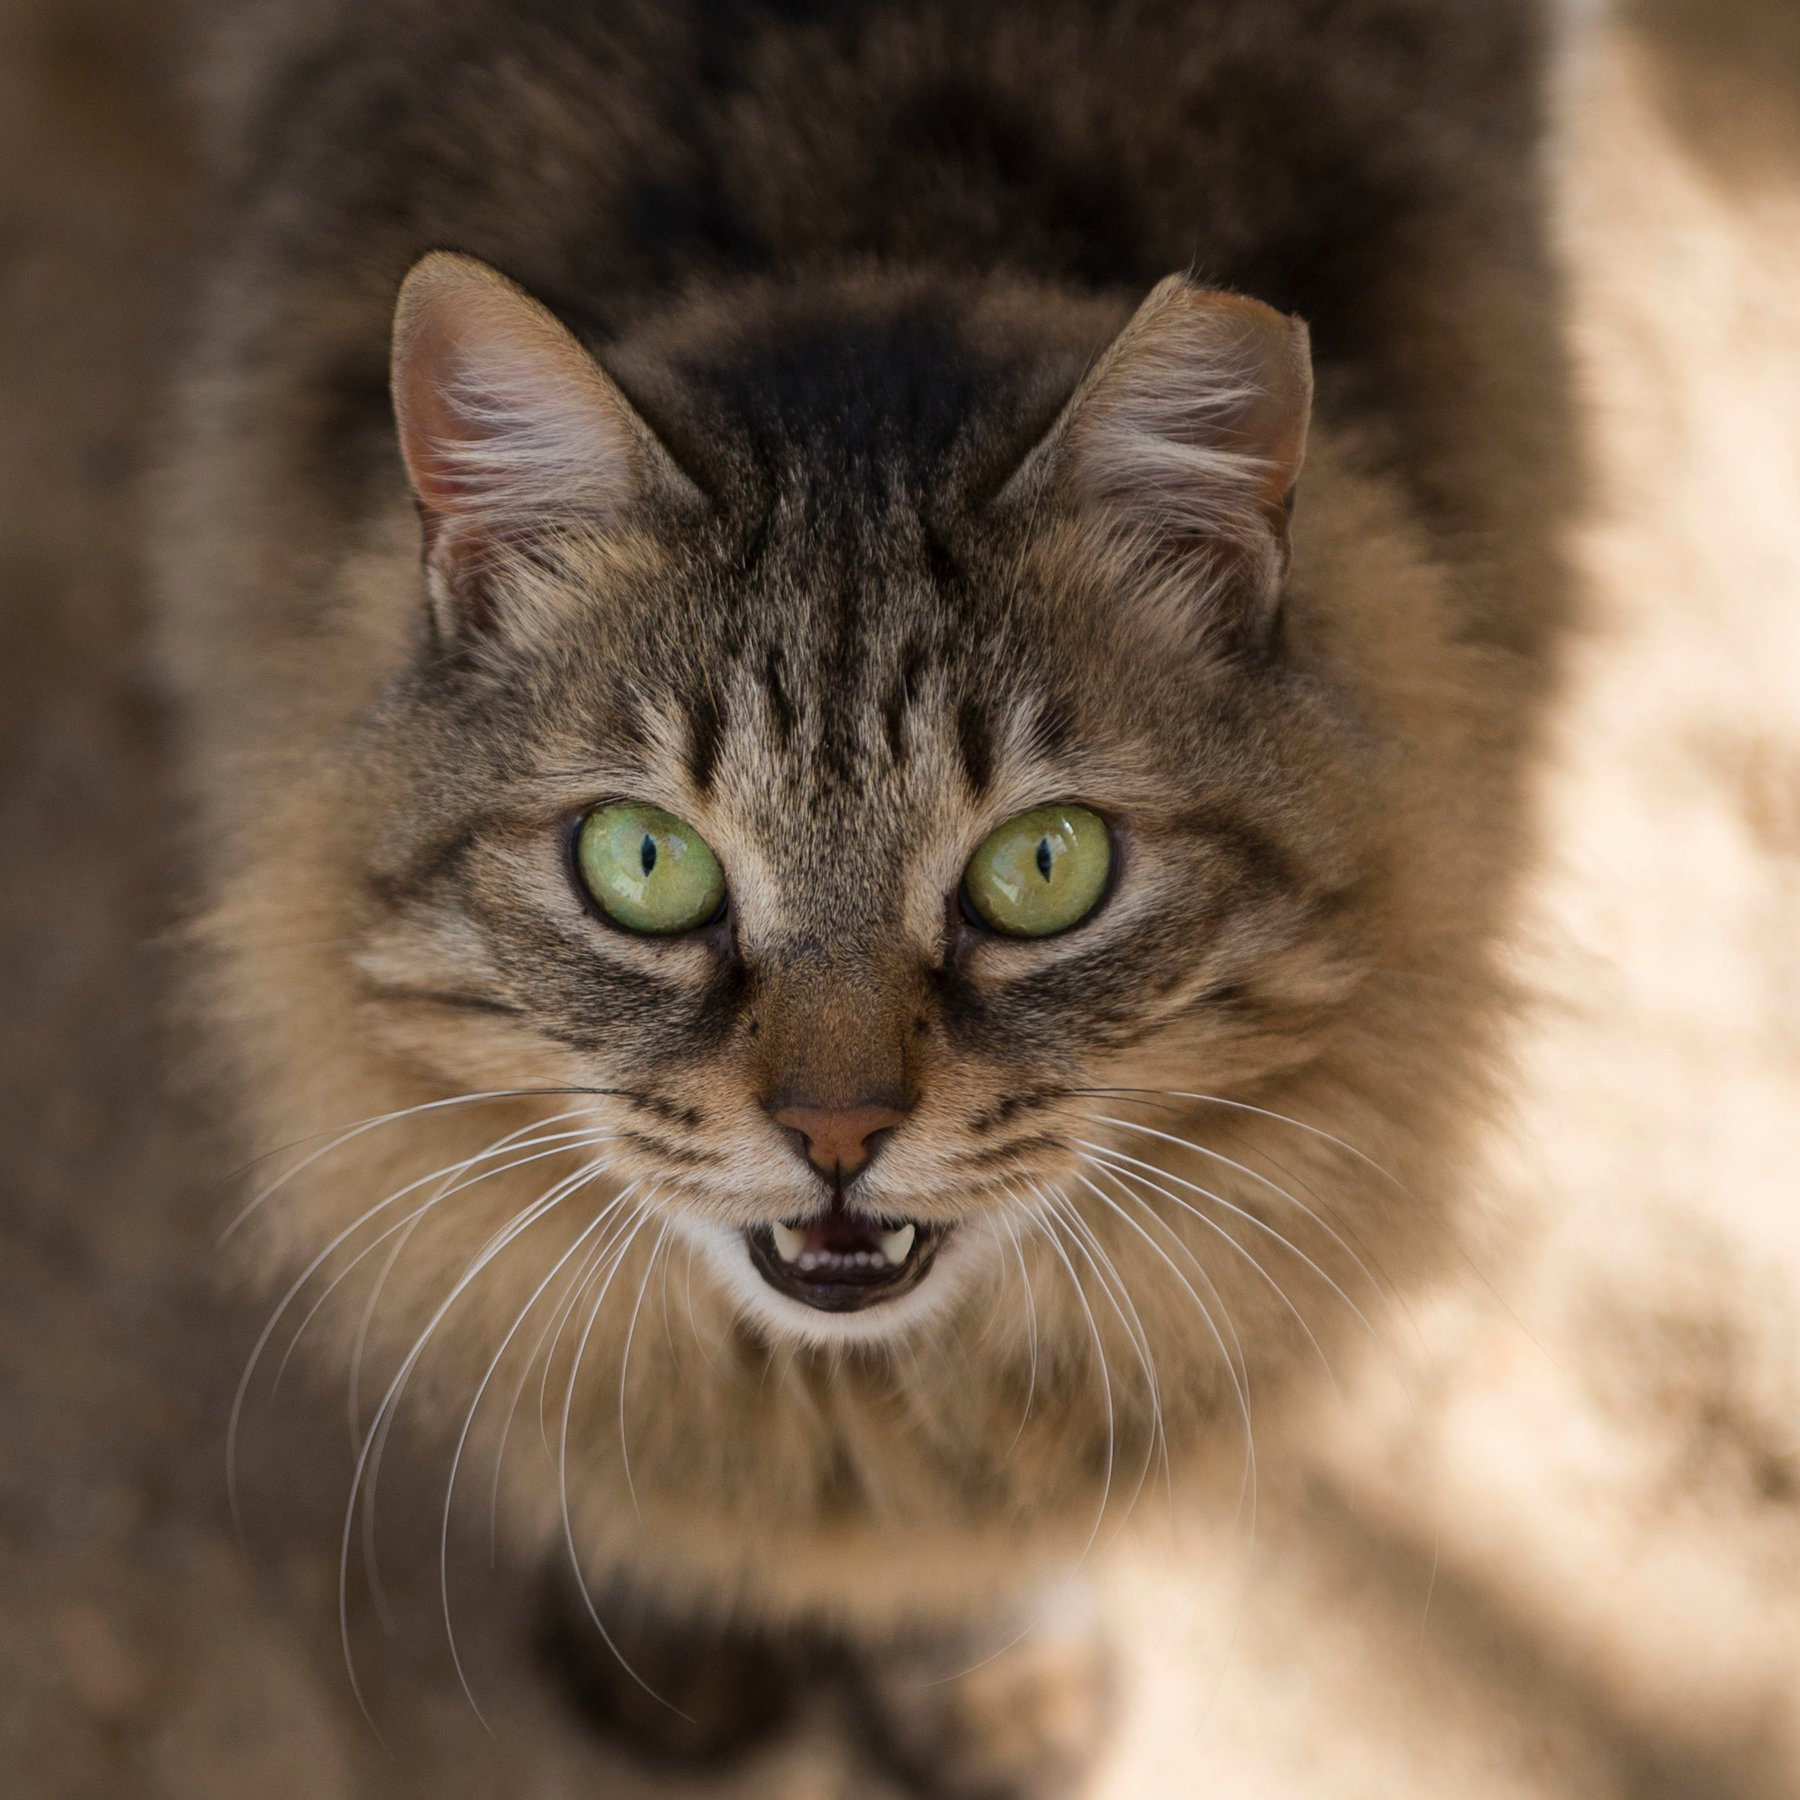cat: (297, 41, 1526, 1729)
